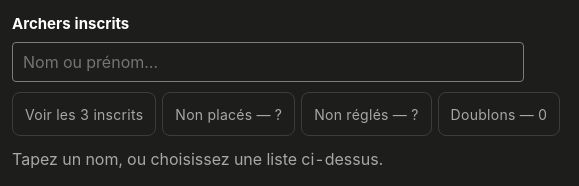
Test case: compteurs d’A09 — population inconnue › un compteur illisible affiche « ? » et sa liste dit qu’elle est indisponible
Click the button "Non placés — ?": (229, 114) [162,92,295,136]
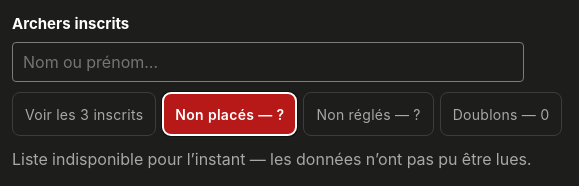
Now the text "Liste indisponible" is shown, box [12,149,531,169]
